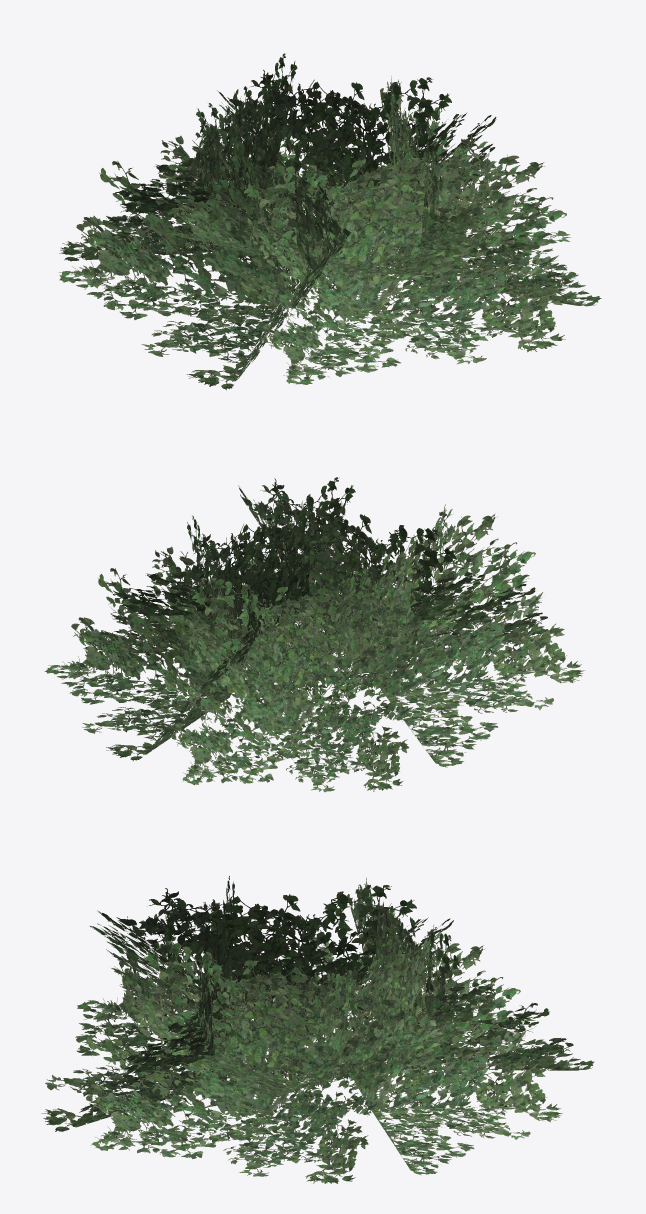
Rendered from shrb_giantlickbush_l2.fbx.
3 views of the same model, one above another, from view 1: azimuth 30°, elevation 25°; view 2: azimuth 150°, elevation 25°; view 3: azimuth 270°, elevation 25° (orthographic). The views are drawn at different scales.
Parts seen in each view (by area): view 1: mesh_node; view 2: mesh_node; view 3: mesh_node.
Part boxes in pixels (x1=…): mesh_node: x1=59, y1=53, x2=601, y2=390; mesh_node: x1=44, y1=477, x2=584, y2=792; mesh_node: x1=41, y1=876, x2=594, y2=1183.
Size of the model in its own units: 6.53 by 2.31 by 7.23.
1 material, 1 textured.
